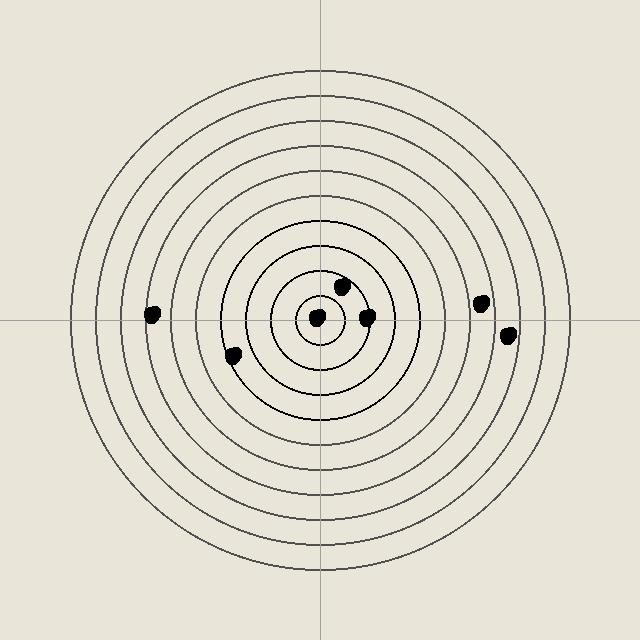horizontal_scatter: (141, 304, 161, 324), (306, 307, 326, 327), (470, 293, 490, 313), (356, 307, 376, 327), (331, 276, 351, 296), (222, 345, 242, 365), (497, 325, 517, 345)
